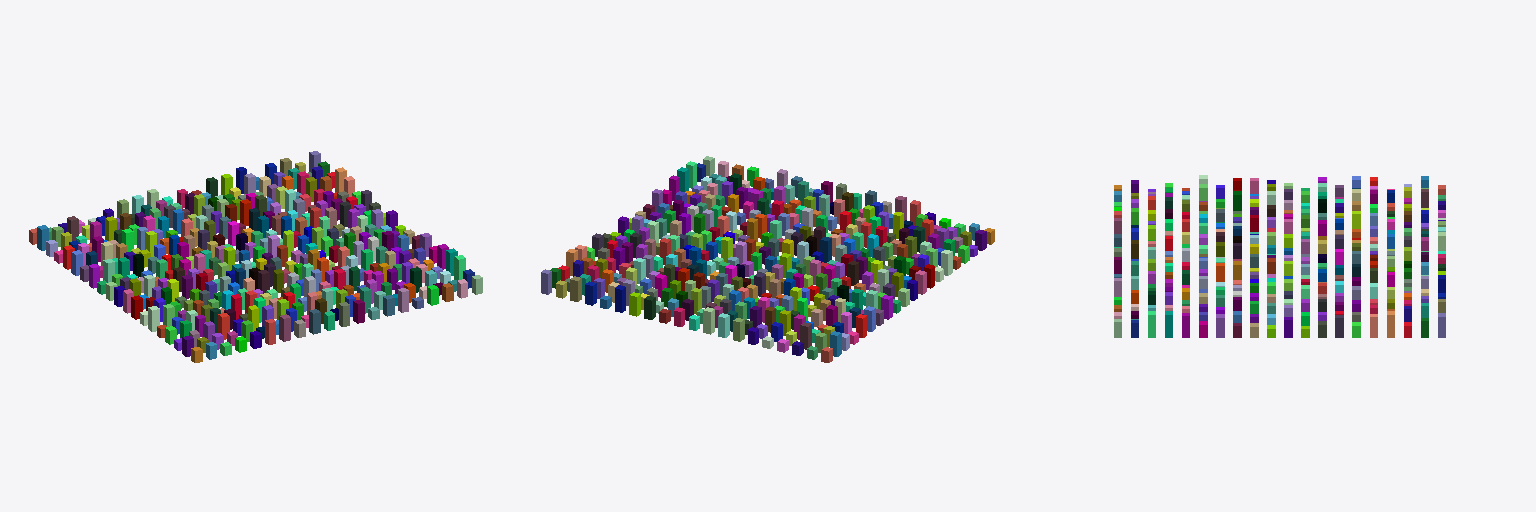
File: cubes.obj
The picture shows the model from 3 angles: view 1: azimuth 30°, elevation 25°; view 2: azimuth 150°, elevation 25°; view 3: azimuth 270°, elevation 25°; orthographic projection.
Parts seen in each view (by area): view 1: cube-19-0; view 2: cube-19-0; view 3: cube-19-0.
Boxes of the visible parts, x1=… form: cube-19-0: x1=29, y1=151, x2=482, y2=362; cube-19-0: x1=541, y1=156, x2=994, y2=362; cube-19-0: x1=1114, y1=175, x2=1445, y2=337.
Bounding box in the file's own units: 19.5 × 1.5 × 19.5.